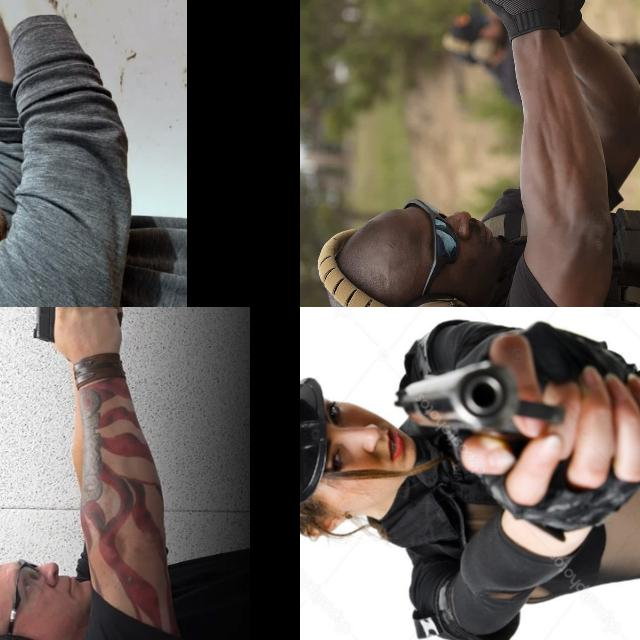handgun: (387, 352, 576, 444), (31, 307, 125, 346), (437, 0, 527, 40), (0, 0, 61, 58)
